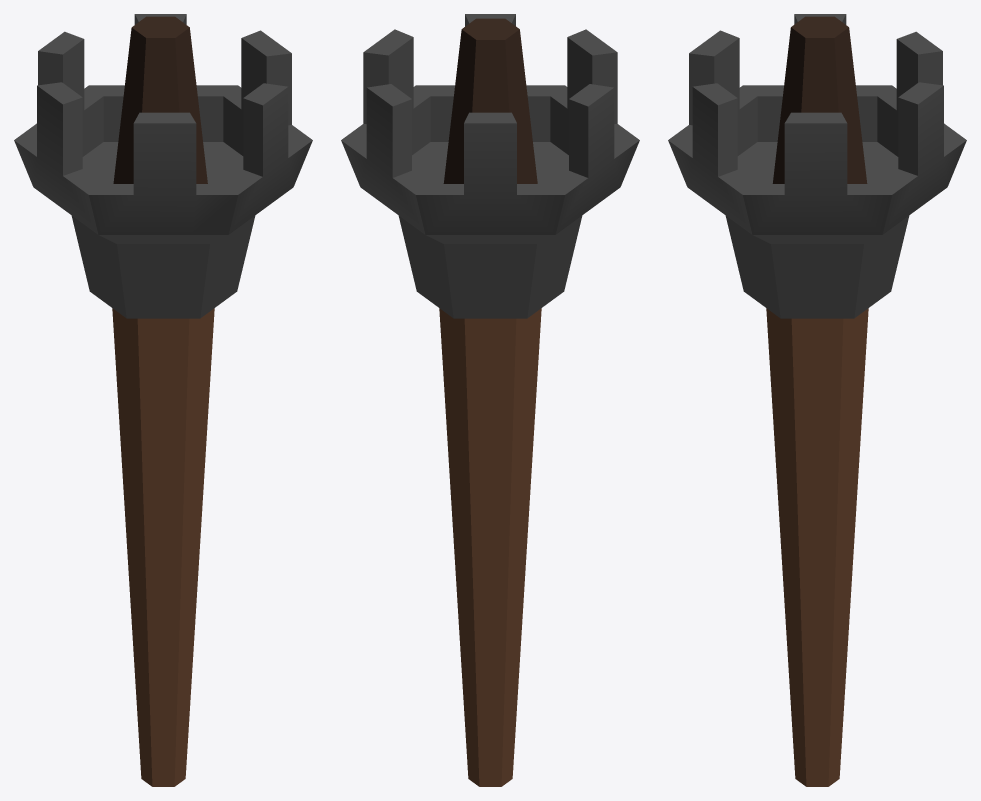
The model's file is tool_torch.fbx.
The picture shows the model from 3 angles, left to right: view 1: azimuth 30°, elevation 25°; view 2: azimuth 150°, elevation 25°; view 3: azimuth 270°, elevation 25°; orthographic projection.
Visible parts, largest first — view 1: pCylinder13; view 2: pCylinder13; view 3: pCylinder13.
Part boxes in pixels (box(x1,y1,x2,y2)): pCylinder13: box(14, 14, 312, 786); pCylinder13: box(341, 14, 639, 786); pCylinder13: box(668, 14, 966, 786).
Bounding box in the file's own units: 0.4954 × 1.59 × 0.572.
